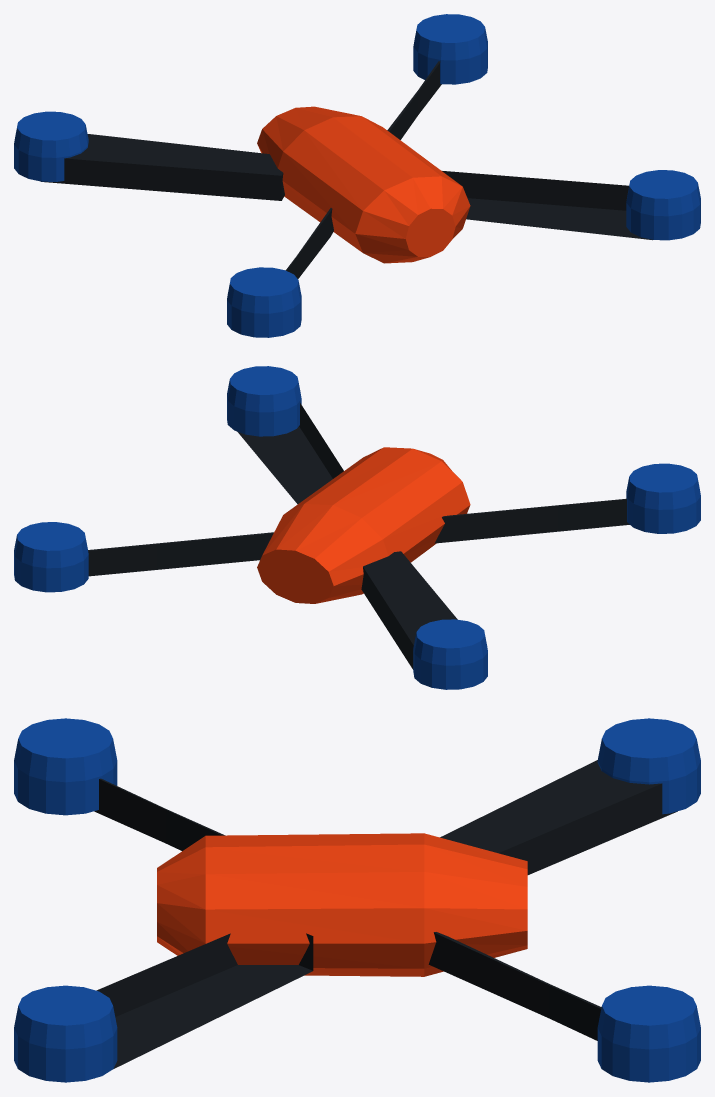
File: quadrotor.obj
3 views of the same model, one above another, from view 1: azimuth 30°, elevation 25°; view 2: azimuth 150°, elevation 25°; view 3: azimuth 270°, elevation 25° (orthographic). The views are drawn at different scales.
Size of the model in its own units: 1.21 by 0.22 by 1.13.
